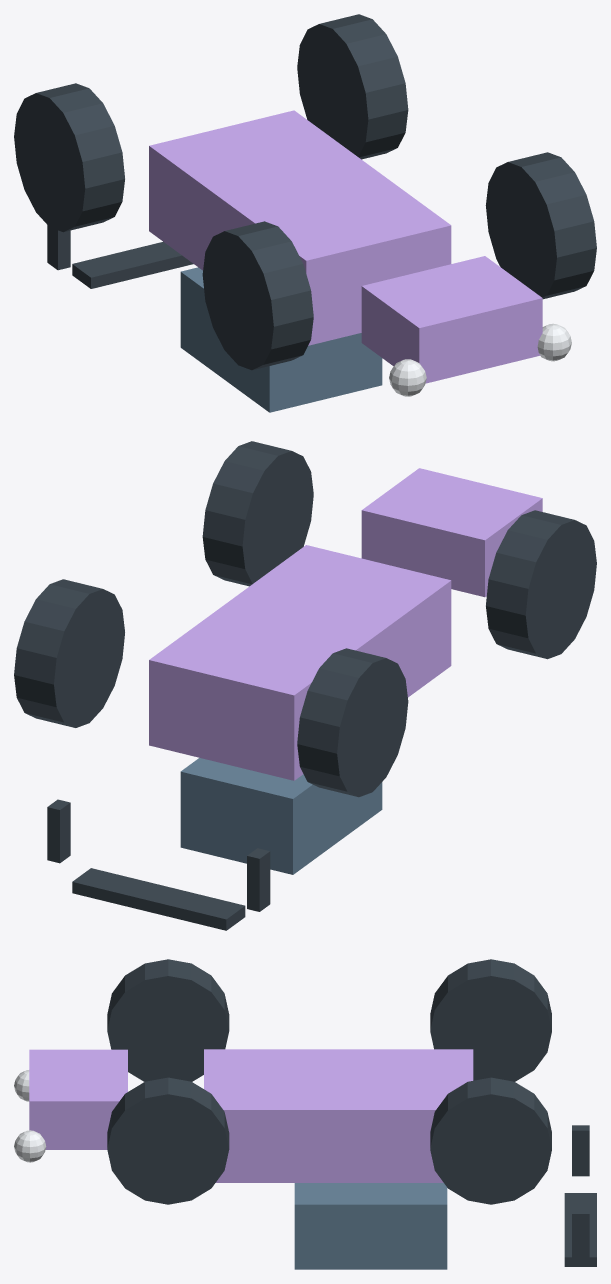
The model's file is car.glb.
The picture shows the model from 3 angles, top to bottom: view 1: azimuth 30°, elevation 25°; view 2: azimuth 150°, elevation 25°; view 3: azimuth 270°, elevation 25°; orthographic projection. The views are drawn at different scales.
Visible parts, largest first — view 1: car; view 2: car; view 3: car.
Boxes of the visible parts, x1,y1,x2,y2 form: car: [14, 14, 596, 412]; car: [14, 441, 596, 930]; car: [14, 959, 596, 1269].
Bounding box in the file's own units: 1.78 × 1.35 × 3.25.
